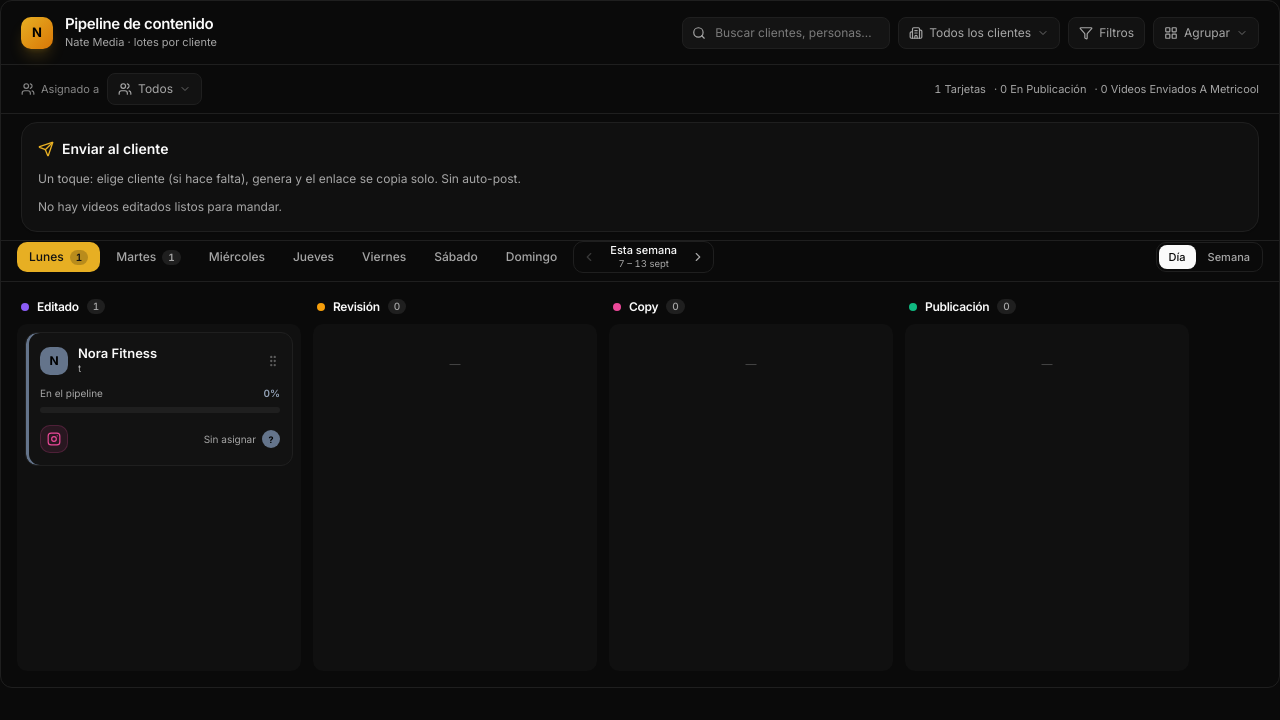
Test case: EntregasBoard — la operación es por día › cada día es su propio tablero: el lunes no enseña lo del martes
The image size is (1280, 720).
Check: the text "Nora Fitness" is shown, box [78, 345, 157, 361]
Check: the text "Lumen" is not shown
What coordinates should you click on to do the following:
click the button "Martes 1"
I would click on:
 (148, 257)
Its box is [104, 242, 193, 272].
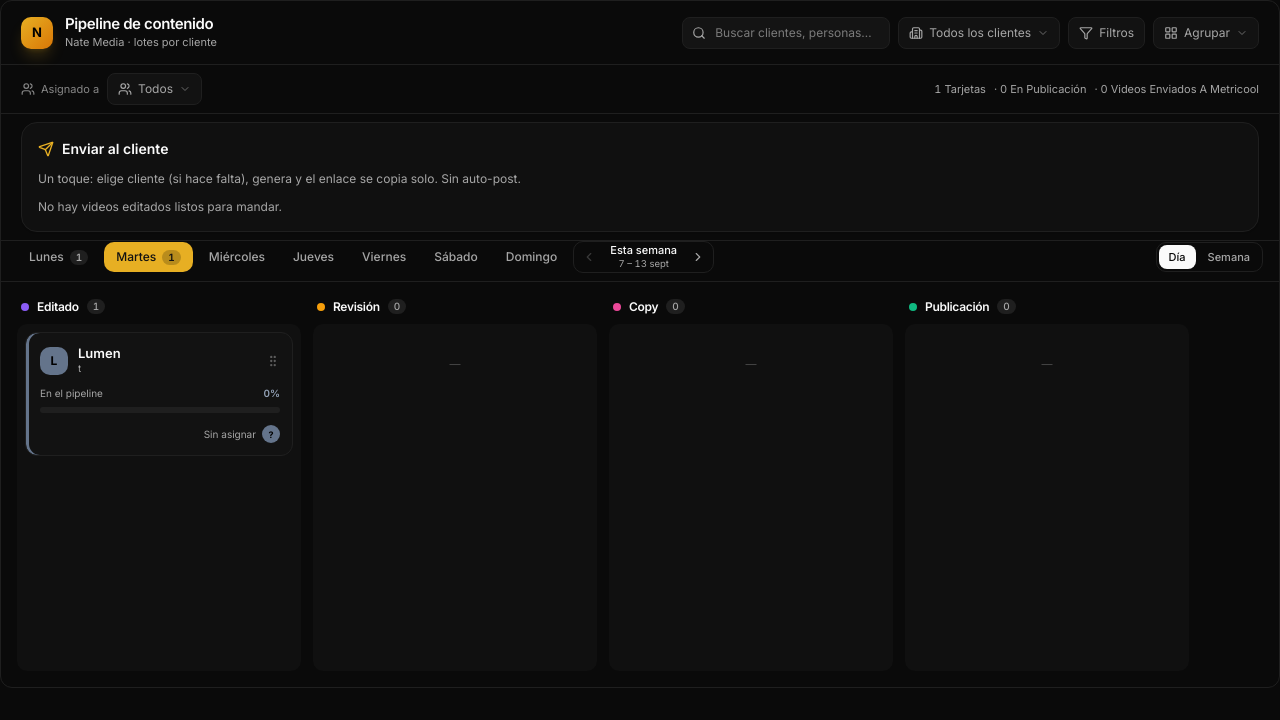
Check: the text "Lumen" is shown, box [78, 345, 121, 361]
Check: the text "Nora Fitness" is gone
